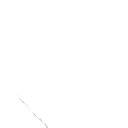crackTip: (17, 95, 51, 128)
